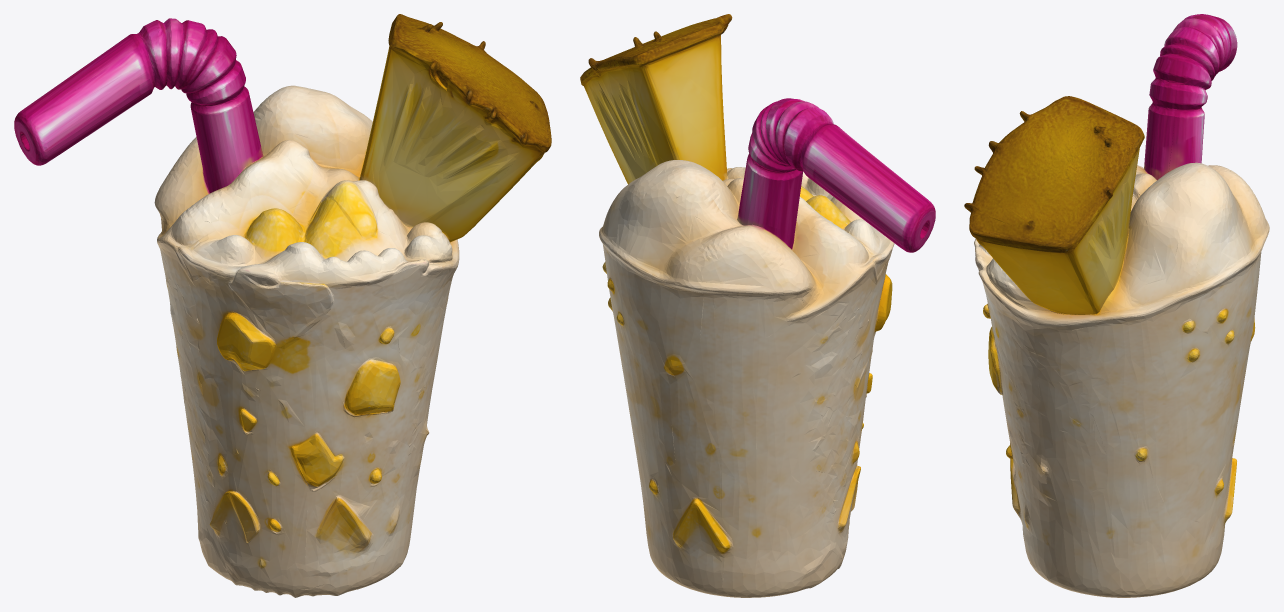
File: Web_MilkSlush_Pineapple.obj
The picture shows the model from 3 angles, left to right: view 1: azimuth 30°, elevation 25°; view 2: azimuth 150°, elevation 25°; view 3: azimuth 270°, elevation 25°; orthographic projection. The views are drawn at different scales.
Visible parts, largest first — view 1: Web_MilkSlush_Pineapple; view 2: Web_MilkSlush_Pineapple; view 3: Web_MilkSlush_Pineapple.
Boxes of the visible parts, x1=… form: Web_MilkSlush_Pineapple: x1=14, y1=14, x2=551, y2=597; Web_MilkSlush_Pineapple: x1=580, y1=14, x2=935, y2=597; Web_MilkSlush_Pineapple: x1=964, y1=14, x2=1269, y2=597.
Size of the model in its own units: 0.8706 by 0.9999 by 0.5548.
Materials: 1 (1 with a texture image).
